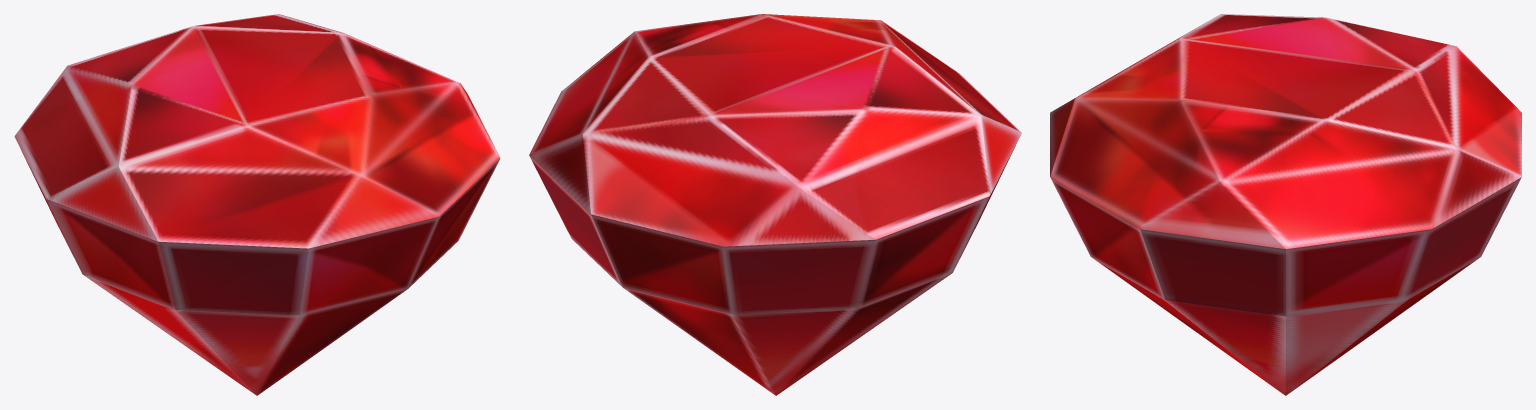
Rendered from bon_3.fbx.
The picture shows the model from 3 angles, left to right: view 1: azimuth 30°, elevation 25°; view 2: azimuth 150°, elevation 25°; view 3: azimuth 270°, elevation 25°; orthographic projection.
Parts seen in each view (by area): view 1: gem_3; view 2: gem_3; view 3: gem_3.
Boxes of the visible parts, <box> form: gem_3: <box>14,14,500,395</box>; gem_3: <box>529,14,1021,395</box>; gem_3: <box>1050,14,1521,395</box>.
Size of the model in its own units: 76.67 by 55.9 by 73.2.
